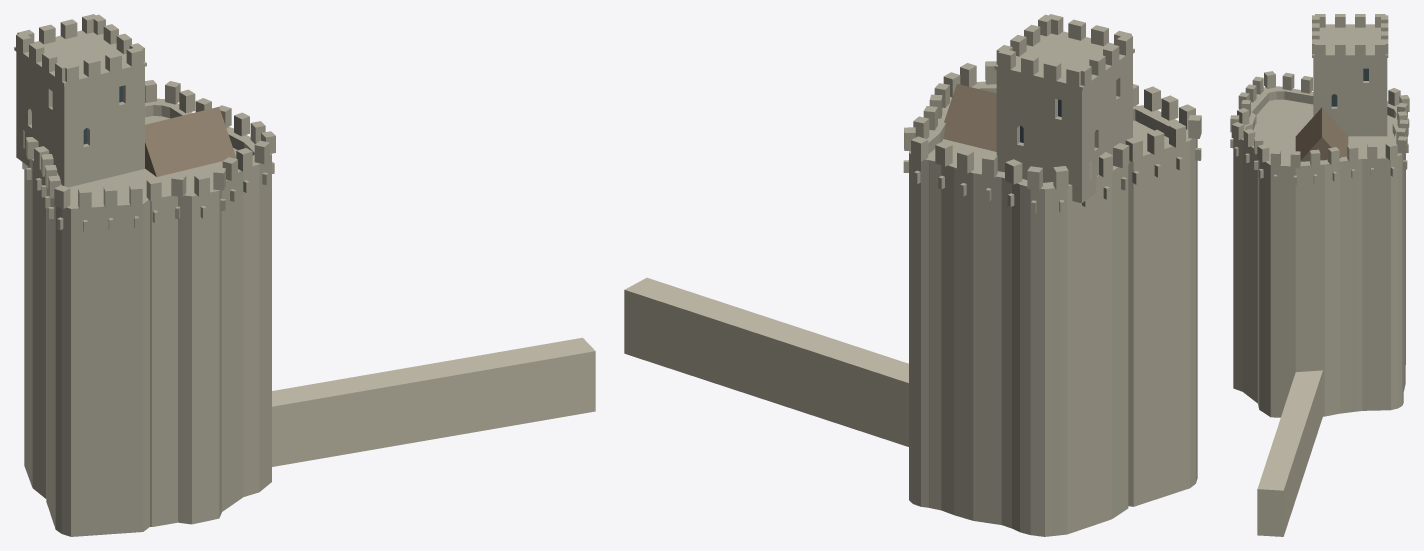
File: tour-saint-nicolas-rochelle-near.glb
3 renders of one model, left to right at view 1: azimuth 30°, elevation 25°; view 2: azimuth 150°, elevation 25°; view 3: azimuth 270°, elevation 25°, orthographic. The views are drawn at different scales.
Parts seen in each view (by area): view 1: tour-saint-nicolas-rochelle-0-plaster, tour-saint-nicolas-rochelle-0-trim, tour-saint-nicolas-rochelle-0-roof; view 2: tour-saint-nicolas-rochelle-0-plaster, tour-saint-nicolas-rochelle-0-trim, tour-saint-nicolas-rochelle-0-roof; view 3: tour-saint-nicolas-rochelle-0-plaster, tour-saint-nicolas-rochelle-0-trim, tour-saint-nicolas-rochelle-0-roof.
Part boxes in pixels (x1,y1,x2,y2): tour-saint-nicolas-rochelle-0-plaster: (14, 14, 275, 536); tour-saint-nicolas-rochelle-0-trim: (272, 337, 595, 466); tour-saint-nicolas-rochelle-0-roof: (145, 107, 235, 176); tour-saint-nicolas-rochelle-0-plaster: (903, 14, 1201, 536); tour-saint-nicolas-rochelle-0-trim: (624, 277, 908, 446); tour-saint-nicolas-rochelle-0-roof: (943, 84, 996, 151); tour-saint-nicolas-rochelle-0-plaster: (1230, 14, 1409, 417); tour-saint-nicolas-rochelle-0-trim: (1257, 370, 1322, 536); tour-saint-nicolas-rochelle-0-roof: (1295, 107, 1348, 161).
Size of the model in its own units: 53.91 by 42 by 20.35.
